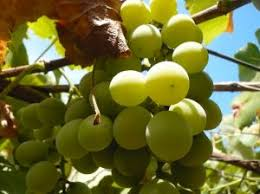Green grapes: (63, 67, 217, 191)
